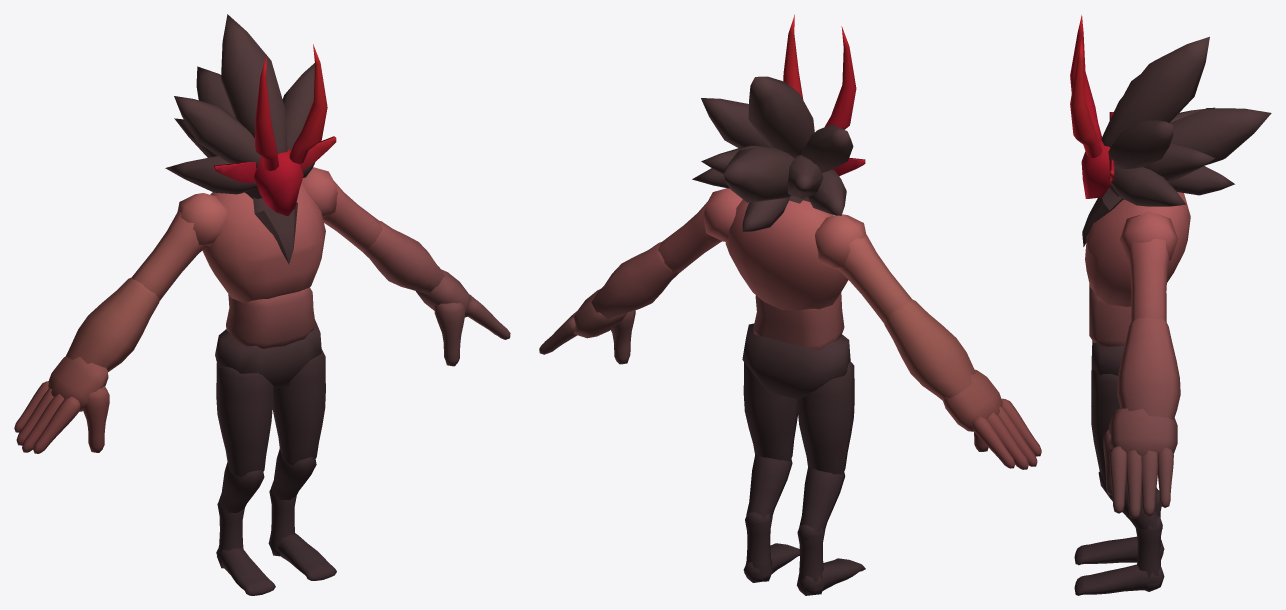
Rendered from SK_LionDemon.fbx.
The picture shows the model from 3 angles, left to right: view 1: azimuth 30°, elevation 25°; view 2: azimuth 150°, elevation 25°; view 3: azimuth 270°, elevation 25°; orthographic projection. The views are drawn at different scales.
Parts seen in each view (by area): view 1: SK_LionDemon; view 2: SK_LionDemon; view 3: SK_LionDemon.
Part boxes in pixels (x1,y1,x2,y2): SK_LionDemon: (14,14,510,595); SK_LionDemon: (539,14,1041,595); SK_LionDemon: (1070,15,1271,595).
Bounding box in the file's own units: 291 × 309 × 102.
1 material, 1 textured.
